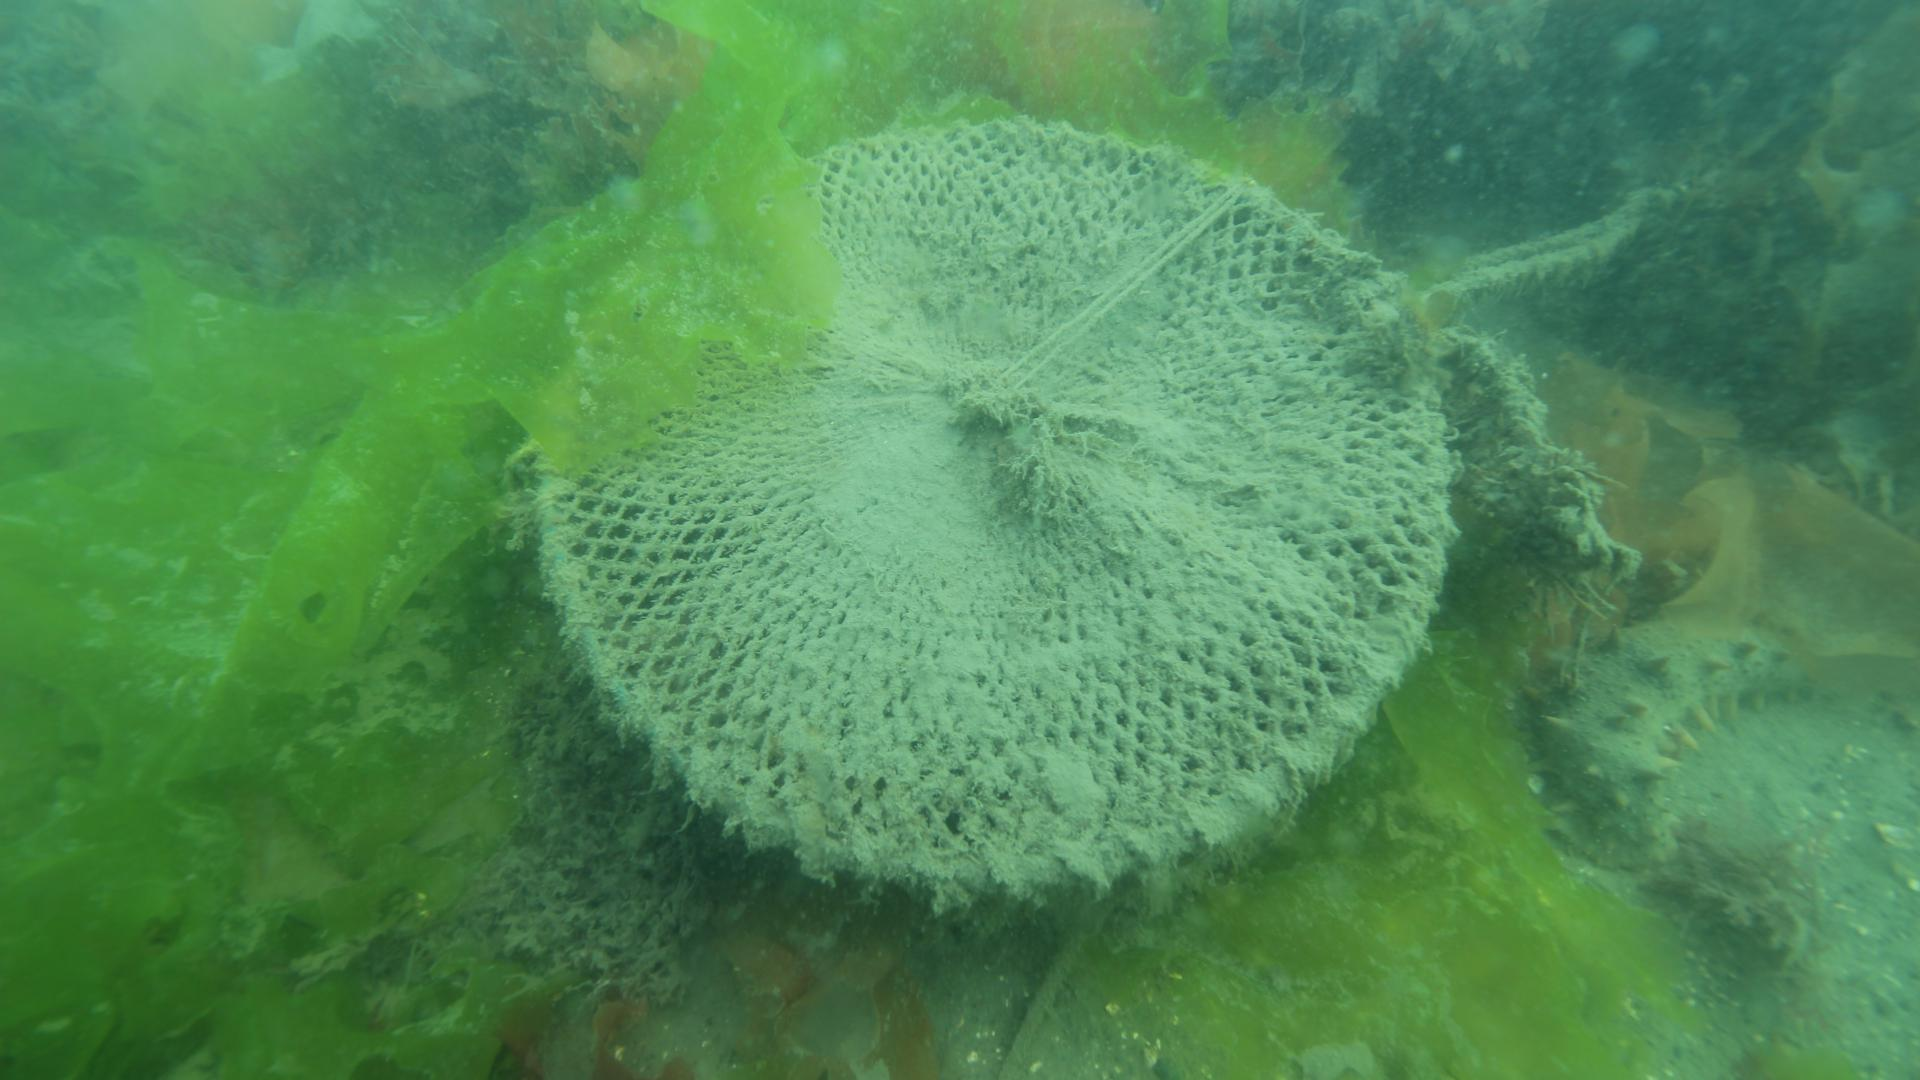circular fish trap: (522, 112, 1462, 895)
